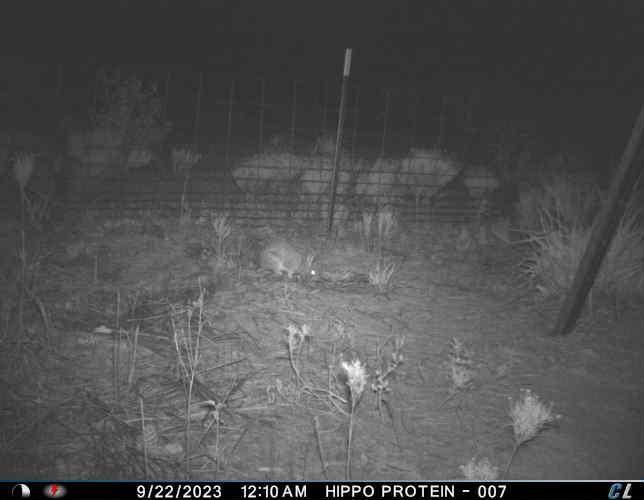Rabbit: (254, 241, 322, 284)
